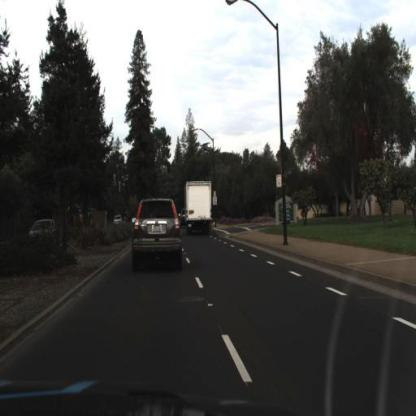car: (131, 196, 184, 271), (28, 217, 56, 248), (113, 213, 125, 229)
truck: (184, 177, 214, 238)
